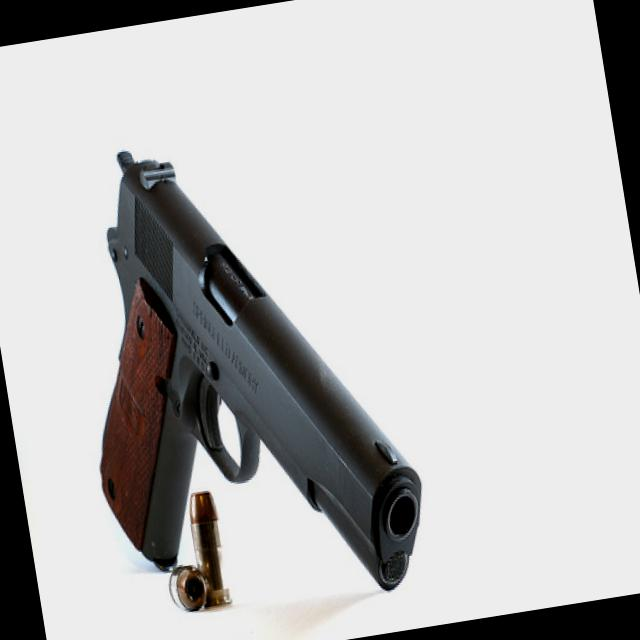handgun: (49, 113, 434, 630)
